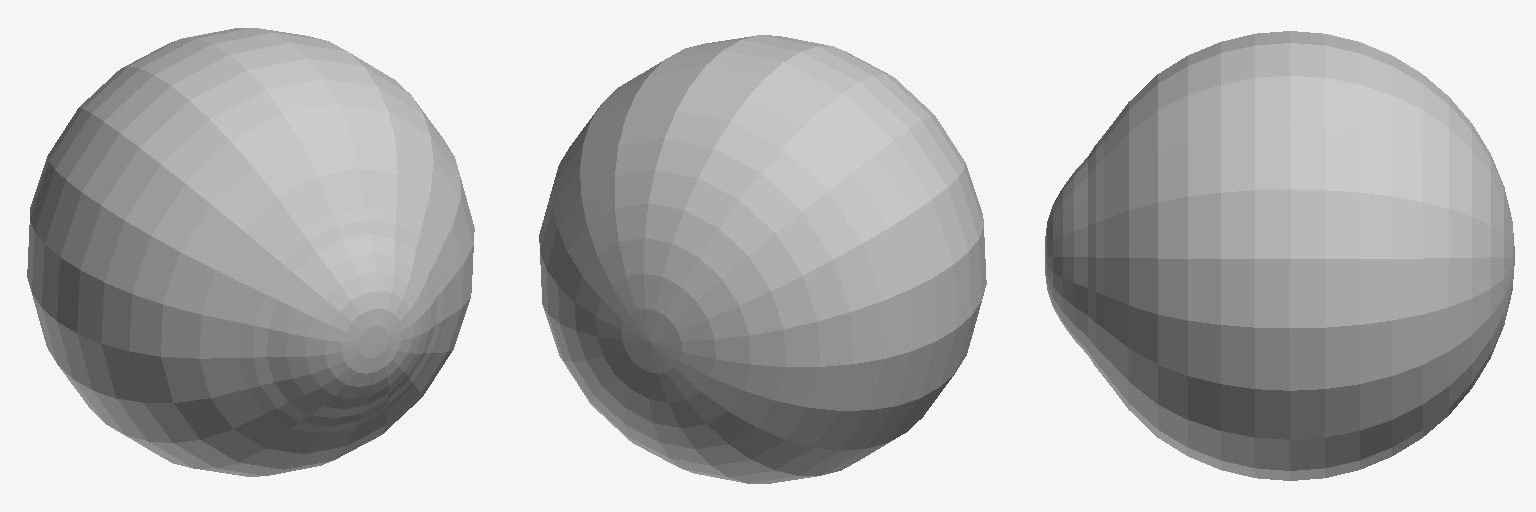
The model's file is Demo_16_eye_update_2.obj.
3 renders of one model, left to right at view 1: azimuth 30°, elevation 25°; view 2: azimuth 150°, elevation 25°; view 3: azimuth 270°, elevation 25°, orthographic.
Visible parts, largest first — view 1: eye_low.001; view 2: eye_low.001; view 3: eye_low.001.
Part boxes in pixels (bbox=[...]): eye_low.001: bbox=[27, 28, 474, 476]; eye_low.001: bbox=[539, 35, 986, 483]; eye_low.001: bbox=[1045, 31, 1514, 480].
Size of the model in its own units: 0.0225 by 0.0225 by 0.0237.